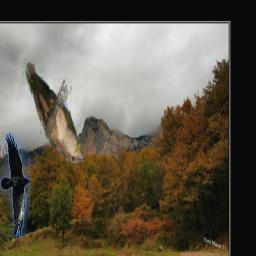Crow: (1, 132, 32, 237)
Cuckoo: (22, 61, 84, 164)
